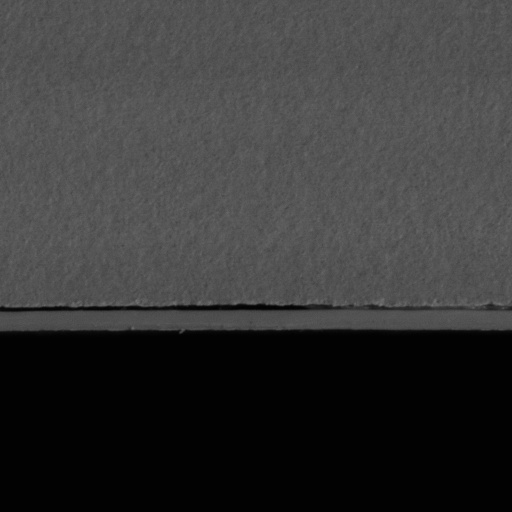jiaofeng: (1, 302, 511, 320)
